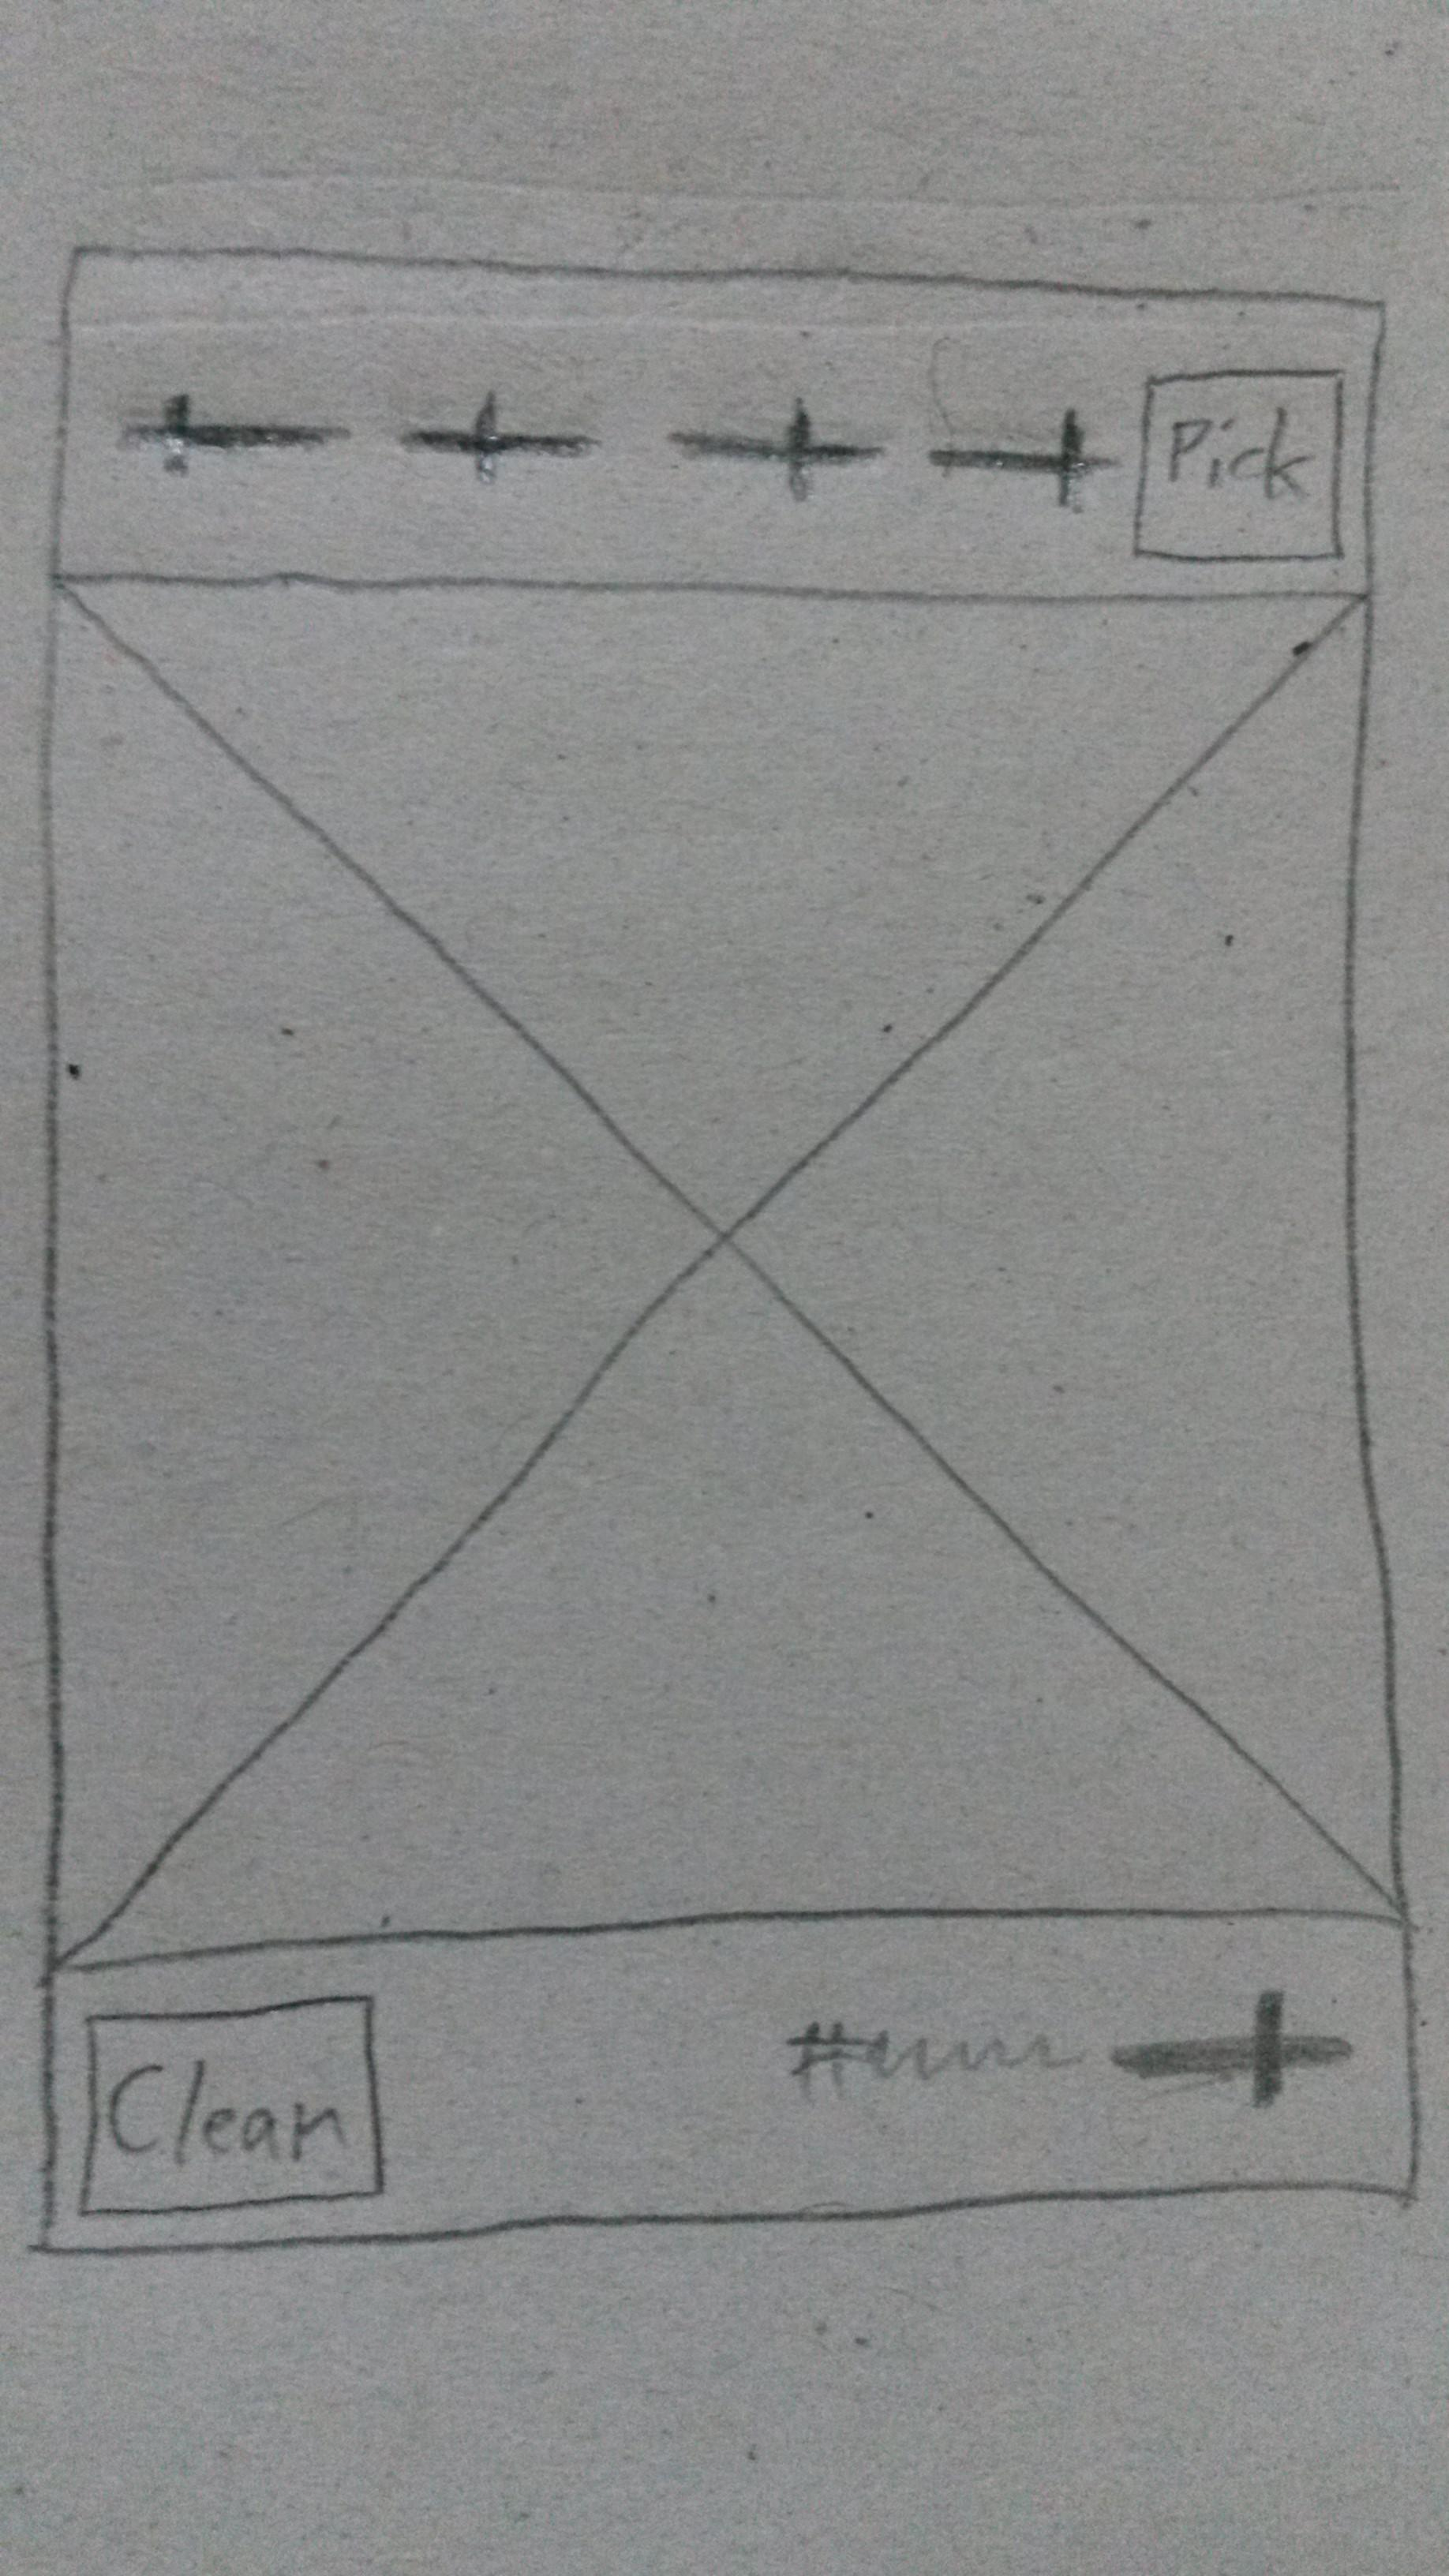Button: (78, 1992, 384, 2219), (1131, 364, 1346, 563)
Image: (44, 570, 1412, 1974)
Label: (784, 2015, 1081, 2107)
Screen: (39, 244, 1421, 2256)
Slider: (1106, 1989, 1355, 2107), (671, 396, 890, 502), (113, 389, 349, 479), (925, 409, 1116, 515), (400, 398, 607, 478)
